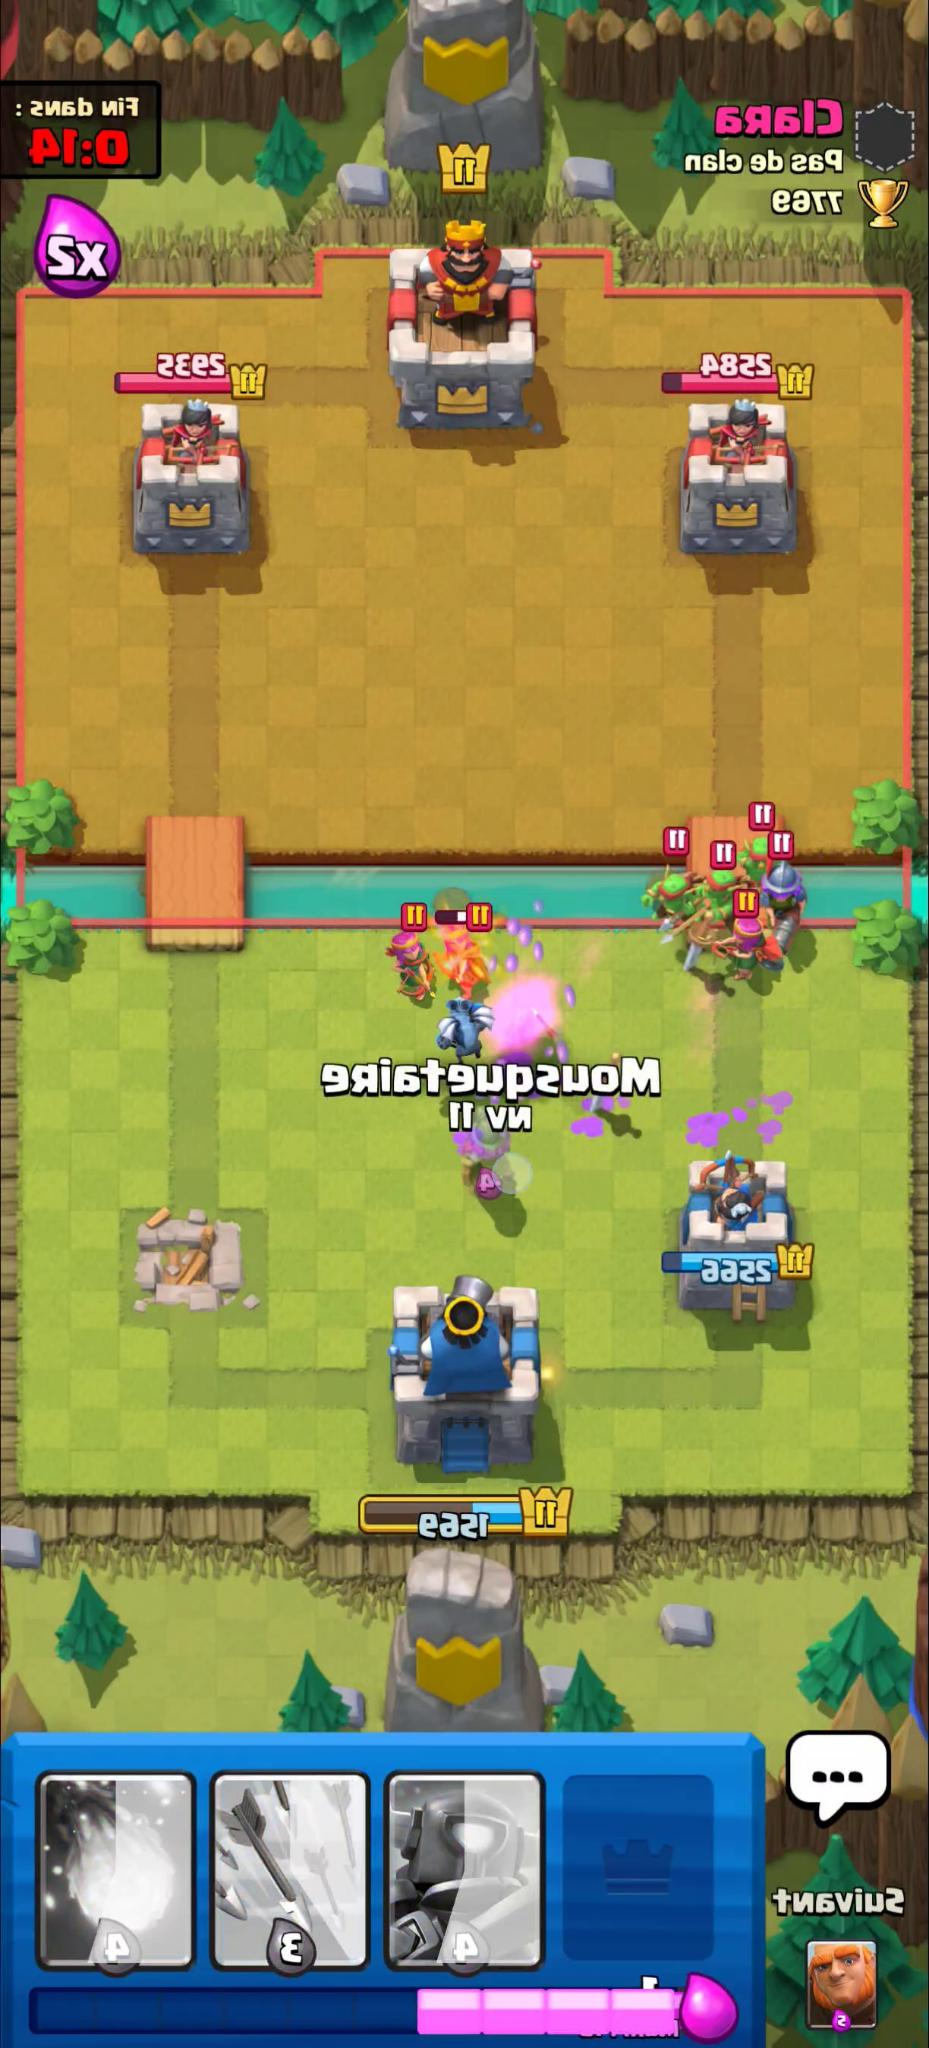archere: (699, 916, 767, 981), (430, 922, 487, 998), (385, 929, 431, 1008)
gargouille: (434, 997, 490, 1063)
gobelin_lances: (640, 870, 702, 933), (689, 871, 747, 925), (733, 833, 777, 886)
mousquetaire: (755, 861, 804, 970), (451, 1118, 508, 1190)
